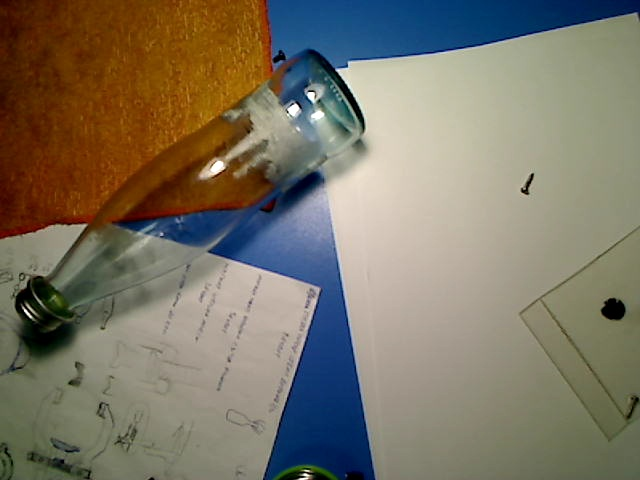bottle: (13, 46, 368, 334)
